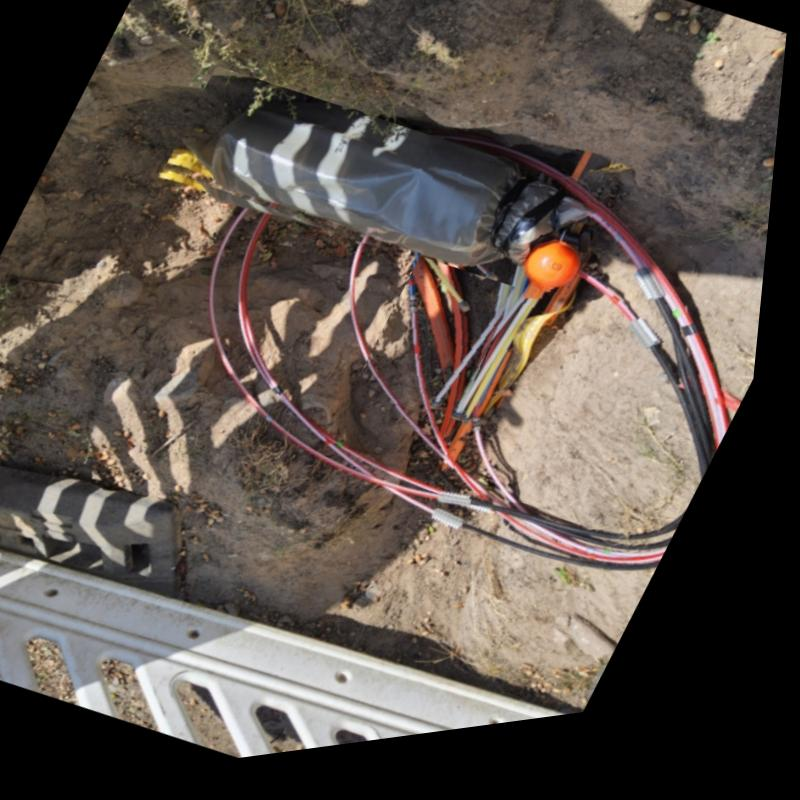Kugelmarker: (534, 257, 587, 306)
NT-Muffen: (182, 109, 598, 283)
Orang-Speednetrohrchen: (420, 269, 476, 453), (453, 365, 519, 485)
